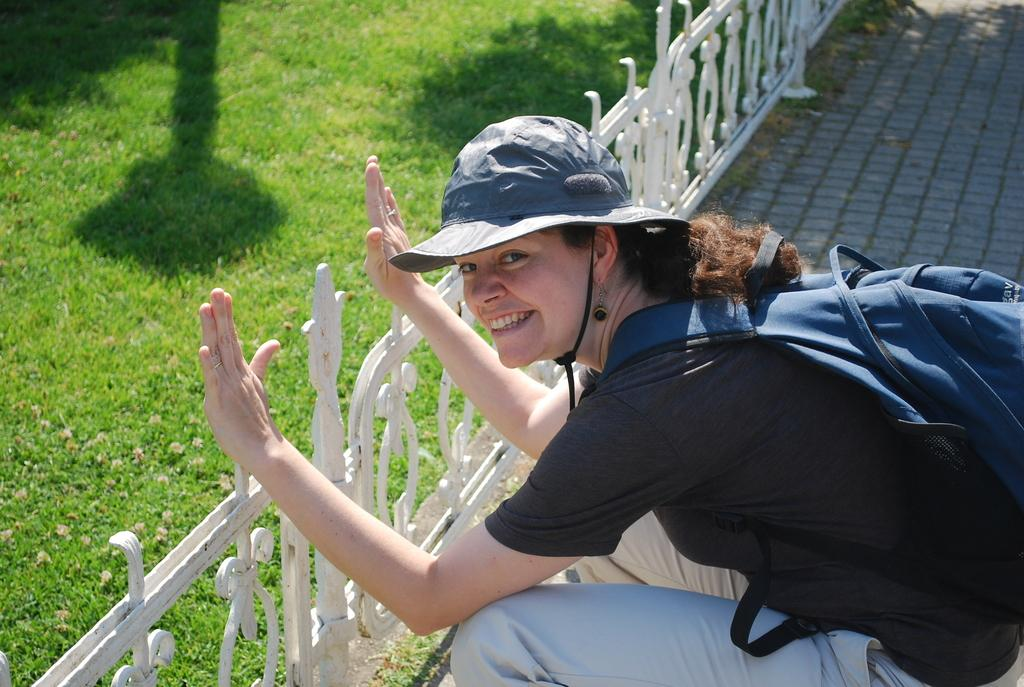Hat: (384, 114, 692, 272)
